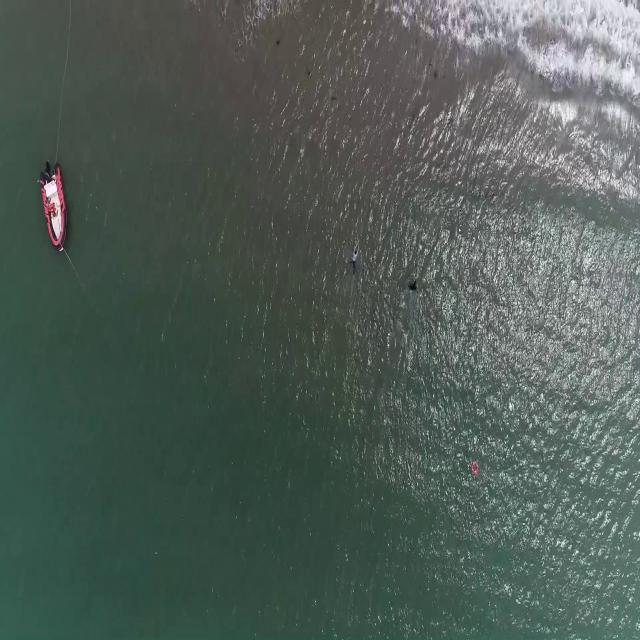boat: (38, 162, 68, 251)
life_buoy: (471, 460, 480, 475)
person: (349, 241, 362, 273), (410, 275, 419, 295)
